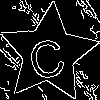C: (23, 28, 68, 81)
